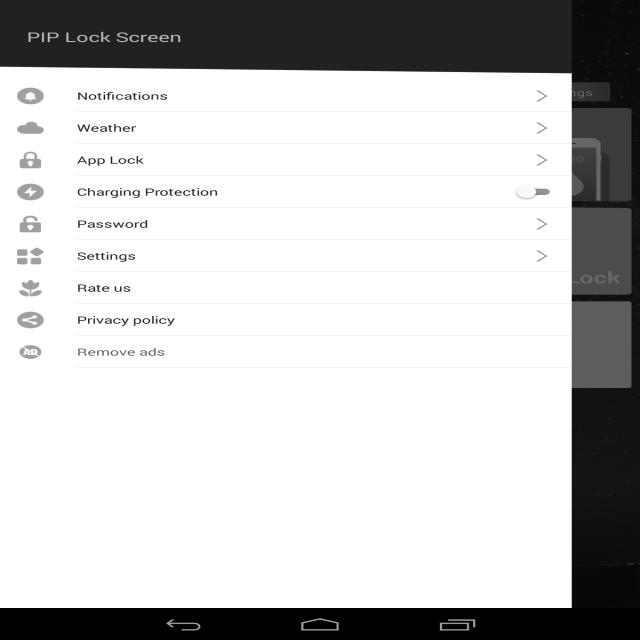Button: (521, 82, 610, 102)
ImageView: (536, 138, 610, 201), (30, 252, 104, 295), (446, 324, 511, 364), (17, 40, 81, 80), (130, 324, 193, 364), (17, 8, 49, 28), (17, 88, 44, 104), (529, 88, 556, 104), (17, 120, 44, 136), (529, 120, 556, 136), (17, 152, 44, 168), (529, 152, 556, 168), (17, 184, 44, 200), (17, 216, 44, 232), (529, 216, 556, 232), (17, 248, 44, 264), (529, 248, 556, 264), (17, 280, 44, 296), (17, 312, 44, 328), (17, 344, 44, 360), (178, 354, 194, 364), (494, 354, 510, 364)
TextView: (97, 59, 493, 82), (77, 89, 529, 103), (77, 121, 529, 135), (77, 153, 529, 167), (77, 217, 529, 231), (77, 249, 529, 263), (76, 185, 514, 199), (19, 115, 152, 136), (27, 28, 182, 46), (514, 266, 621, 288), (97, 40, 244, 55), (77, 313, 175, 327), (77, 345, 165, 359), (446, 304, 510, 318), (130, 304, 193, 318), (77, 281, 131, 295)
